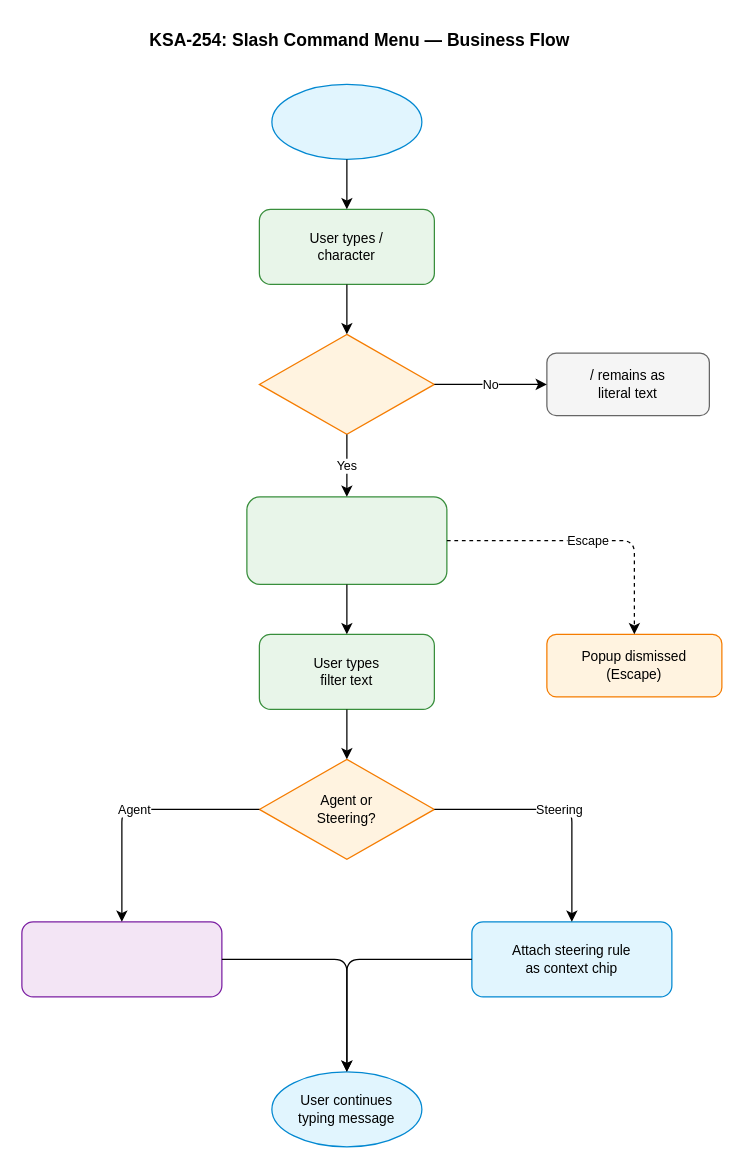
Some shapes in this 744 by 1169 pixel diagram are drawn without their labels. The shapes that lost their labels are listed below. From the top down, each one's centre as x and y in pixels, then its label:
At [346,121]: "User focuses chat input".
At [346,383]: "Valid trigger position?".
At [346,540]: "Show Slash Command Popup (Agents + Steering)".
At [121,959]: "Insert /agent-name prefix in textarea".
